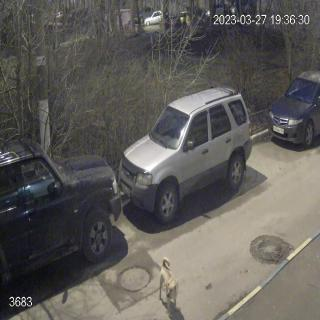Car: (118, 84, 252, 226), (0, 134, 122, 288), (268, 69, 320, 148), (134, 6, 154, 24), (144, 10, 162, 27), (179, 11, 189, 26)
